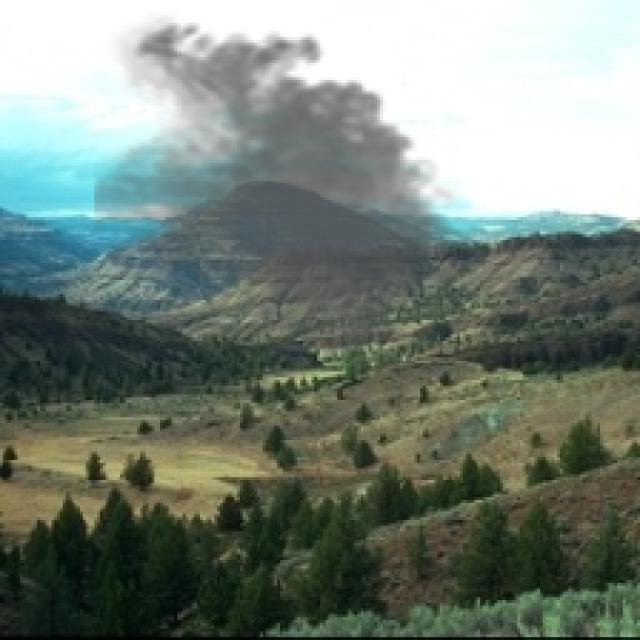Smoke: (94, 12, 469, 354)
